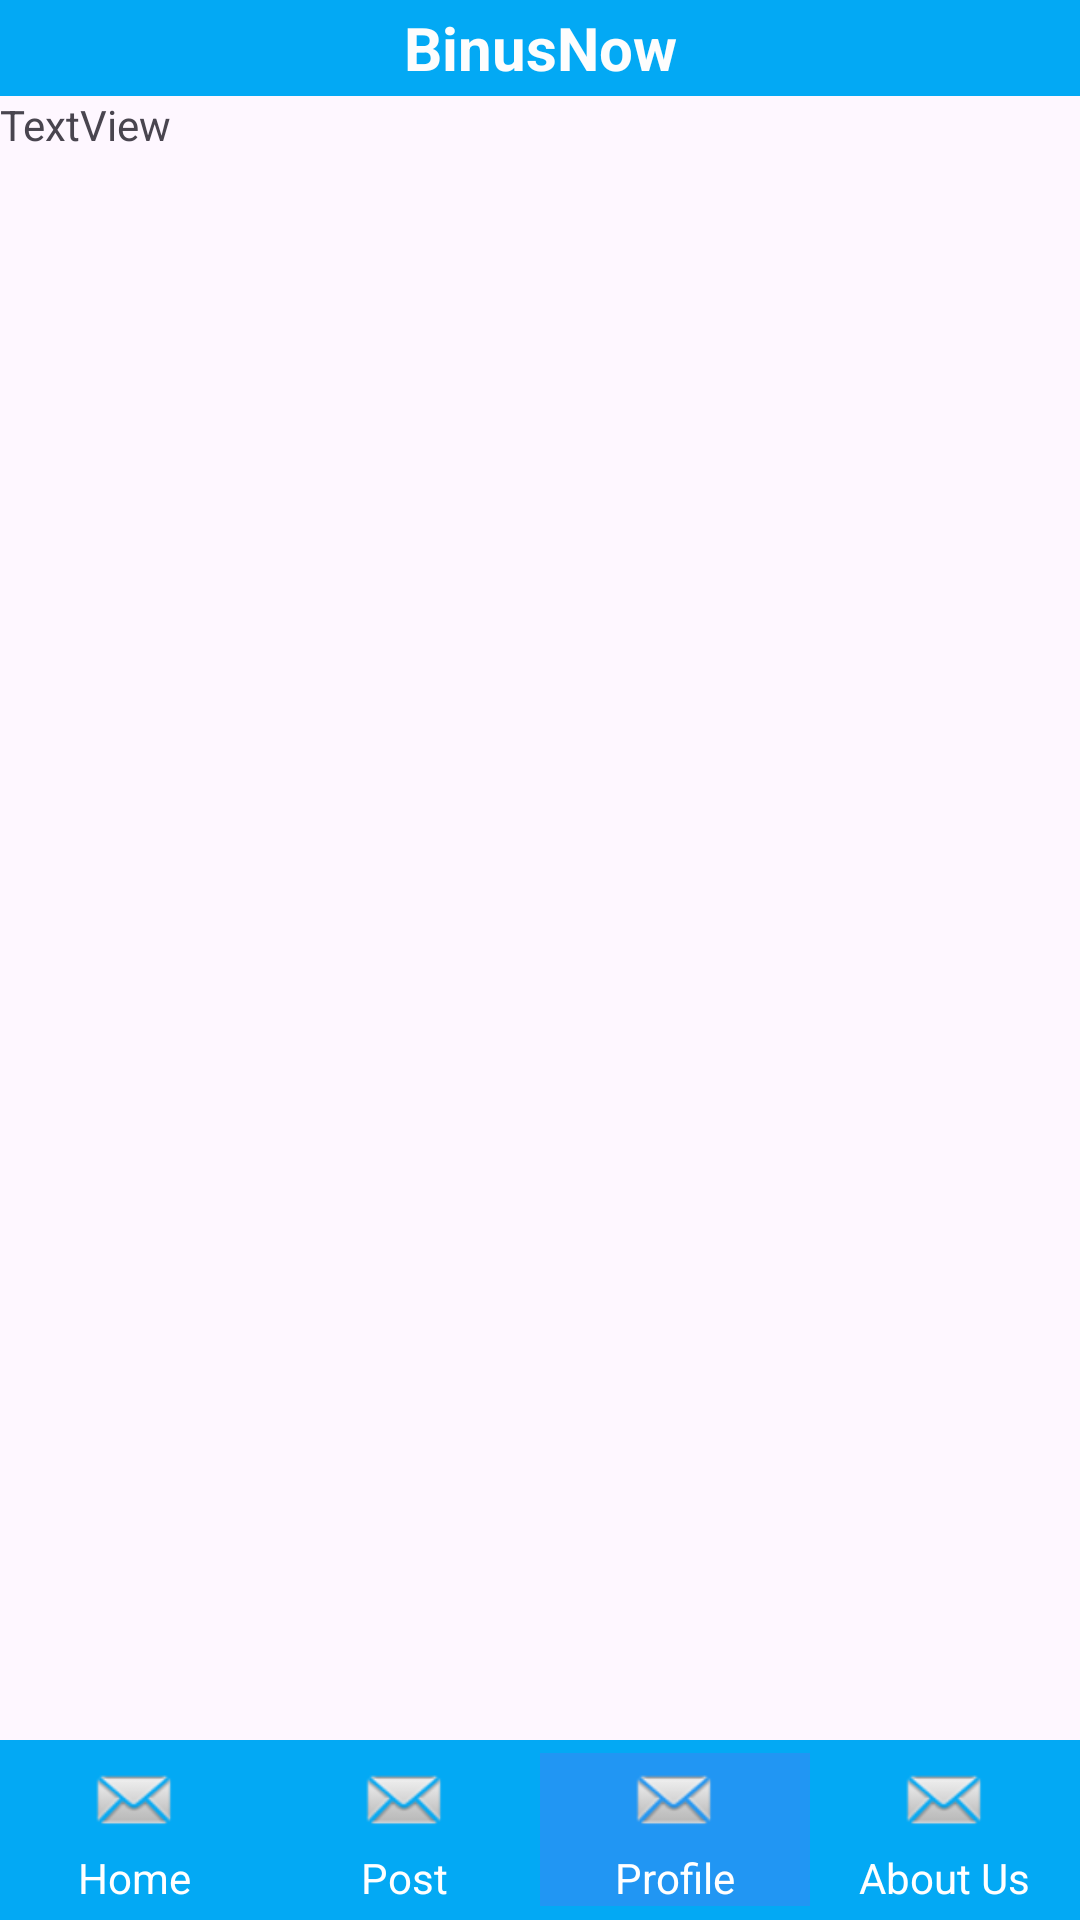

Named icons in this screenshot (1080 x 1920) and their bounding boxes, BBox(x1, y1, x2, y2):
sym action email: BBox(96, 1775, 171, 1824), BBox(366, 1775, 441, 1824), BBox(636, 1775, 711, 1824), BBox(906, 1775, 981, 1824)
